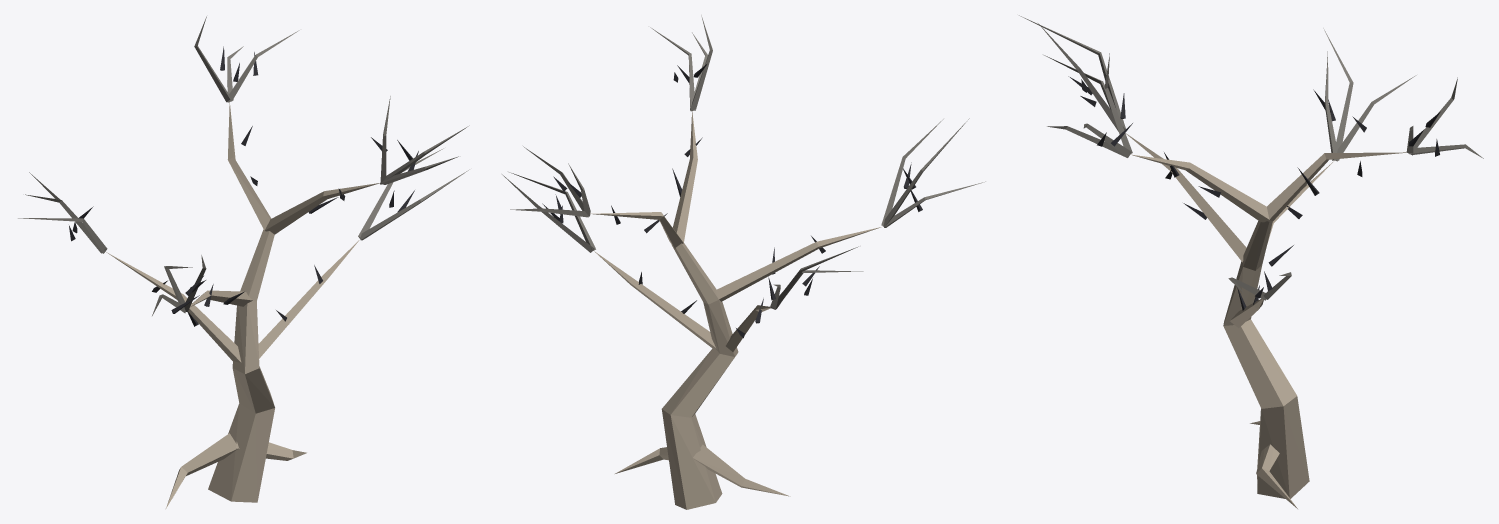
Rendered from Circle7Piece_Tree6.obj.
3 views of the same model, side by side, from view 1: azimuth 30°, elevation 25°; view 2: azimuth 150°, elevation 25°; view 3: azimuth 270°, elevation 25° (orthographic). The views are drawn at different scales.
Parts seen in each view (by area): view 1: Circle7Piece_Tree6; view 2: Circle7Piece_Tree6; view 3: Circle7Piece_Tree6.
Part boxes in pixels (box(x1,y1,x2,y2)): Circle7Piece_Tree6: box(18, 16, 469, 509); Circle7Piece_Tree6: box(502, 15, 985, 509); Circle7Piece_Tree6: box(1019, 15, 1483, 508).
Size of the model in its own units: 6.09 by 6.17 by 5.5.
1 material, 1 textured.
